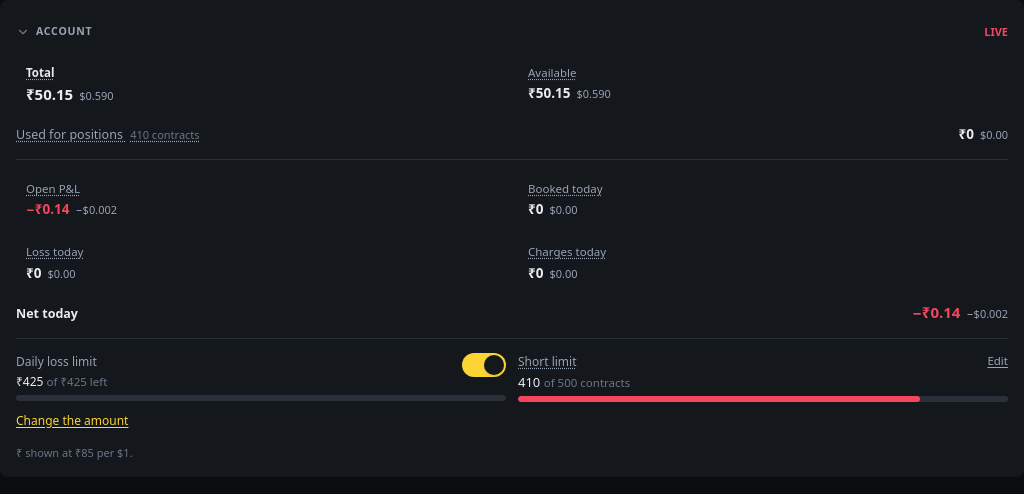
the short cap, visible before it refuses › offers the change control seeded with the limit in force
The width and height of the screenshot is (1024, 494).
Click the button "Edit".
click(998, 361)  # box [987,347,1008,375]
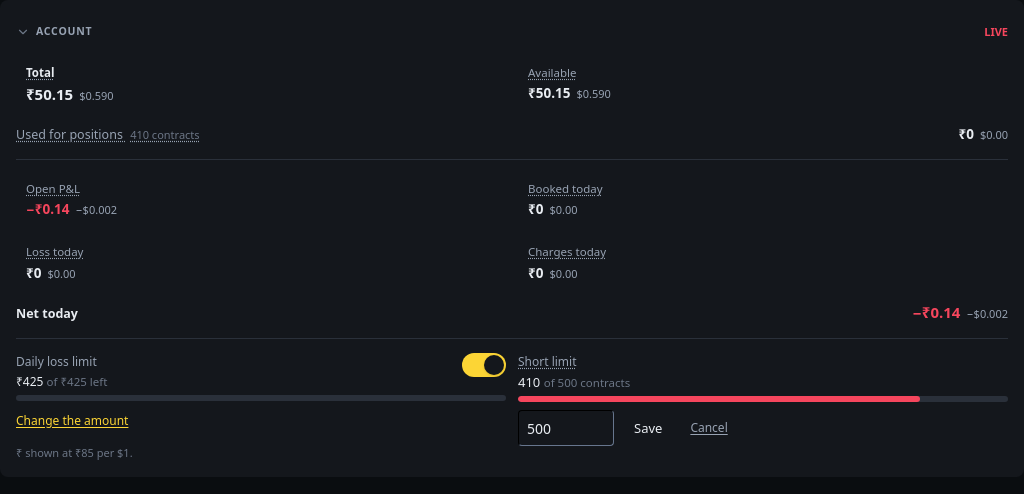
Expected: the number field named "most contracts short" holds "500", [518,410,614,446]
